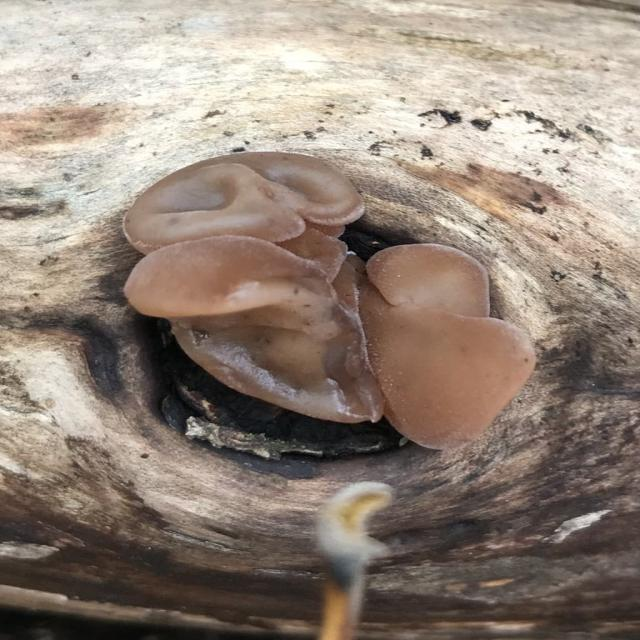Fase Muda: (124, 235, 388, 426), (358, 237, 546, 453), (112, 148, 378, 264)
